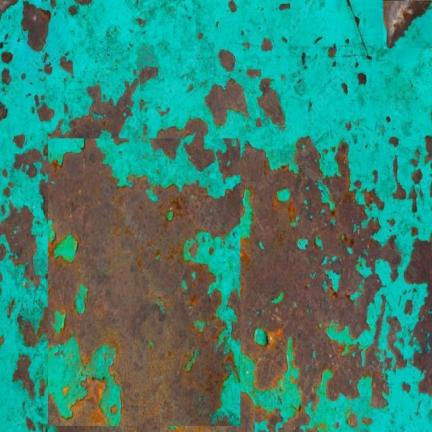karat: (47, 140, 239, 431), (240, 138, 400, 431), (65, 78, 138, 142), (406, 234, 431, 395), (151, 119, 213, 171), (383, 0, 431, 47), (0, 205, 35, 266), (205, 79, 248, 126), (22, 1, 50, 51), (258, 78, 285, 128), (404, 239, 431, 286), (13, 354, 34, 398), (14, 149, 41, 178), (19, 315, 38, 346), (141, 68, 157, 82)
